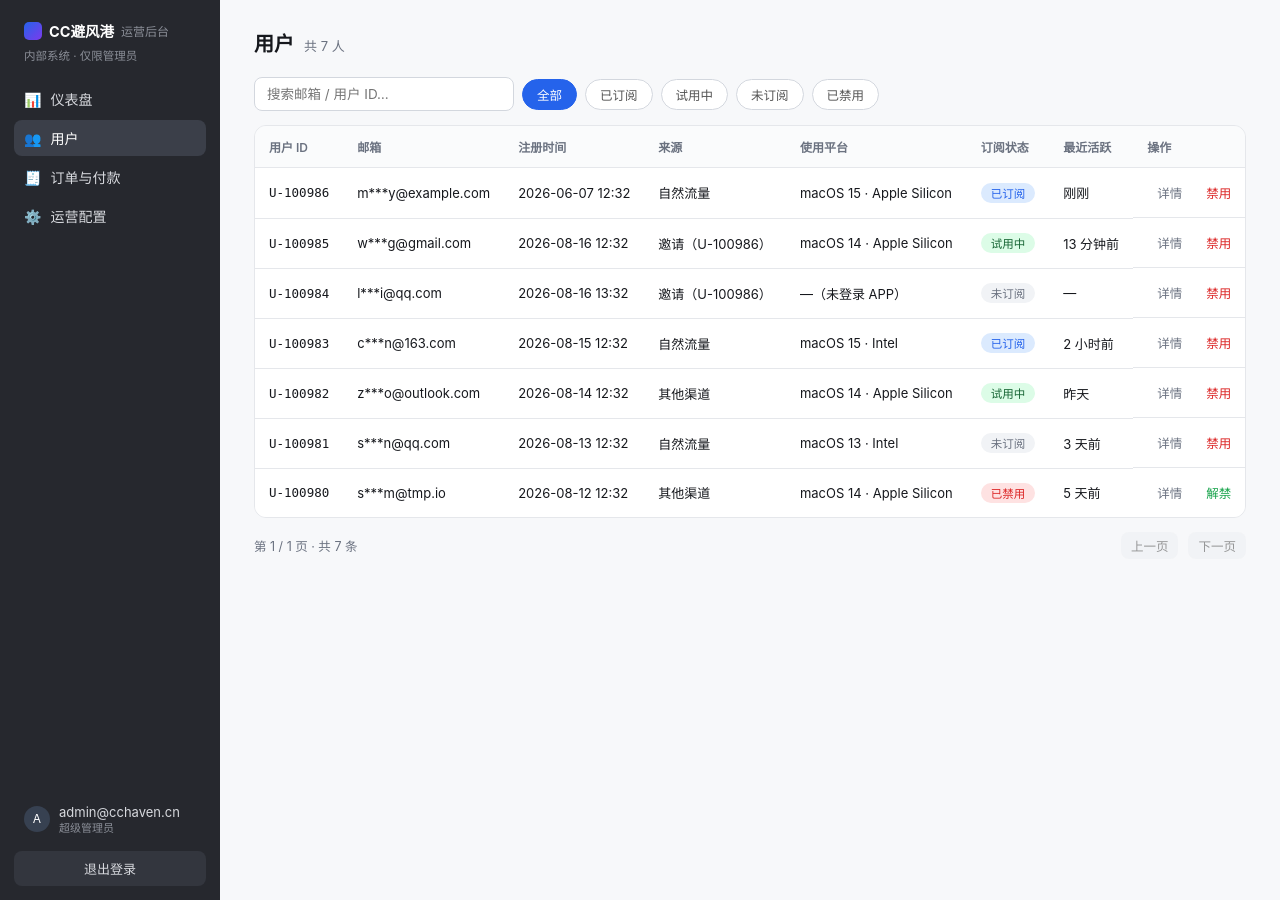
Test: 用户页 › 搜索命中与空结果提示
expect the cell "U-100986" is shown: met, box [255,168,343,218]
In the search field named "搜索邮箱或用户 ID": (384, 94) [254,77,514,111], type "100985"
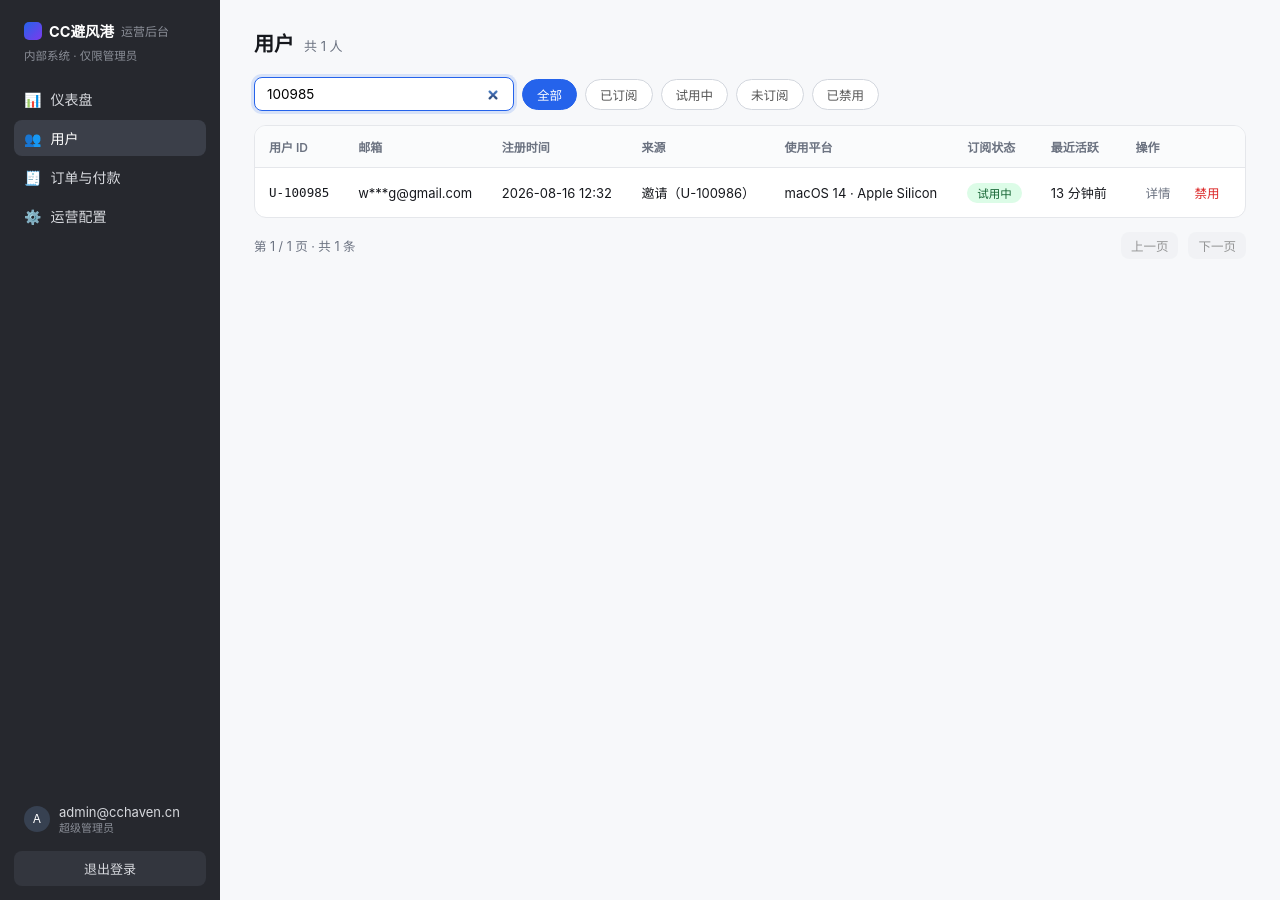
expect the cell "U-100985" is shown: met, box [255,168,344,217]
Replace the text in the search field named "搜索邮箱或用户 ID" with "查无此人": (384, 94) [254,77,514,111]
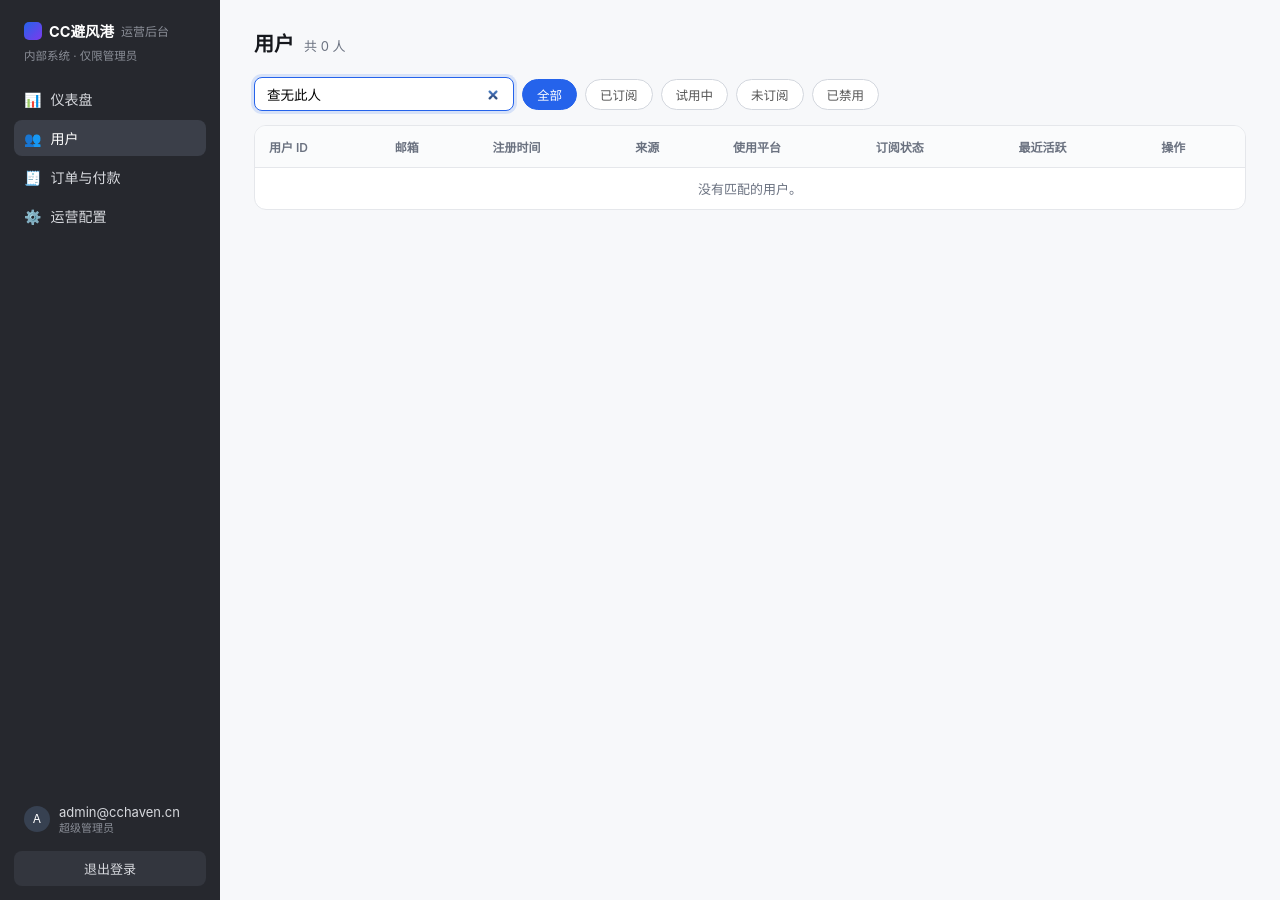
expect the text "没有匹配的用户。" is shown: met, box [255,168,1245,209]
